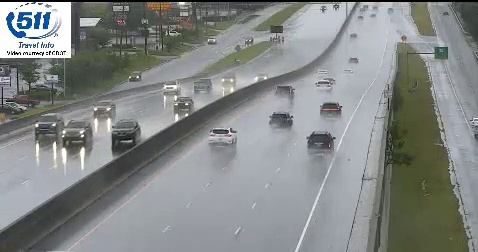car: (307, 132, 334, 153), (208, 127, 236, 145), (319, 101, 341, 118), (269, 112, 291, 128), (275, 86, 294, 99), (315, 79, 332, 92)
